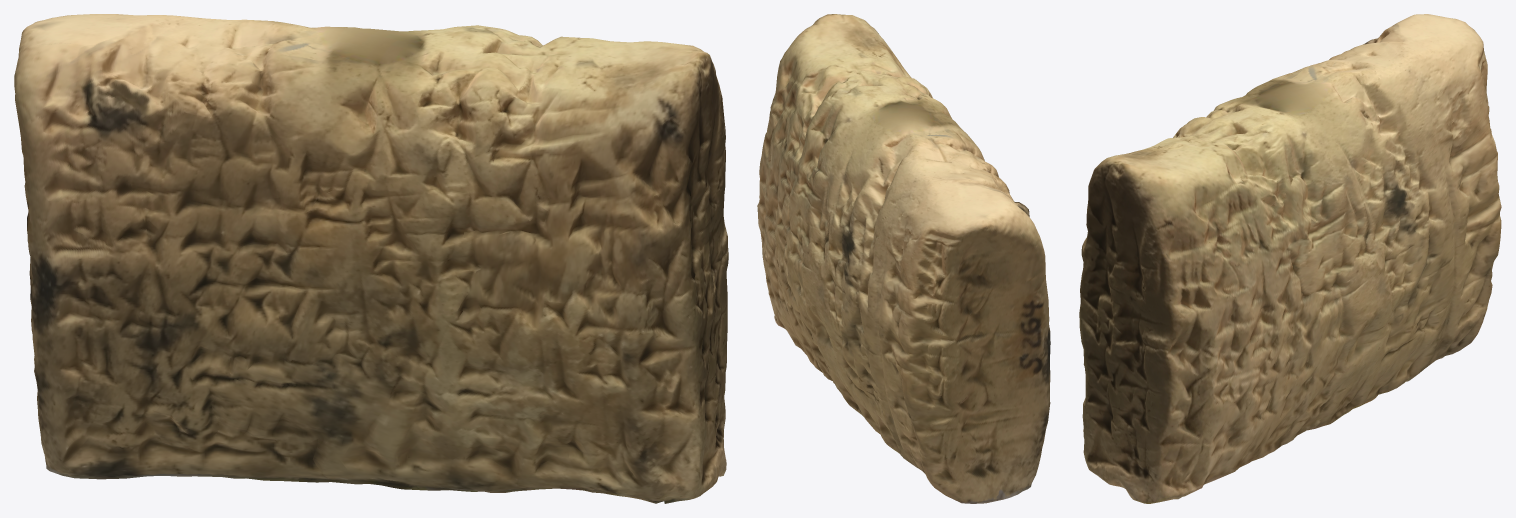
Rendered from old-babylonian_cuneiform_tablet_s264.glb.
3 views of the same model, side by side, from view 1: azimuth 30°, elevation 25°; view 2: azimuth 150°, elevation 25°; view 3: azimuth 270°, elevation 25° (orthographic). The views are drawn at different scales.
Parts seen in each view (by area): view 1: Object_2; view 2: Object_2; view 3: Object_2.
Boxes of the visible parts, bbox=[...] form: Object_2: bbox=[14, 14, 728, 503]; Object_2: bbox=[757, 14, 1050, 503]; Object_2: bbox=[1079, 14, 1501, 503].
Bounding box in the file's own units: 20.98 × 16.19 × 18.64.
1 material, 1 textured.
